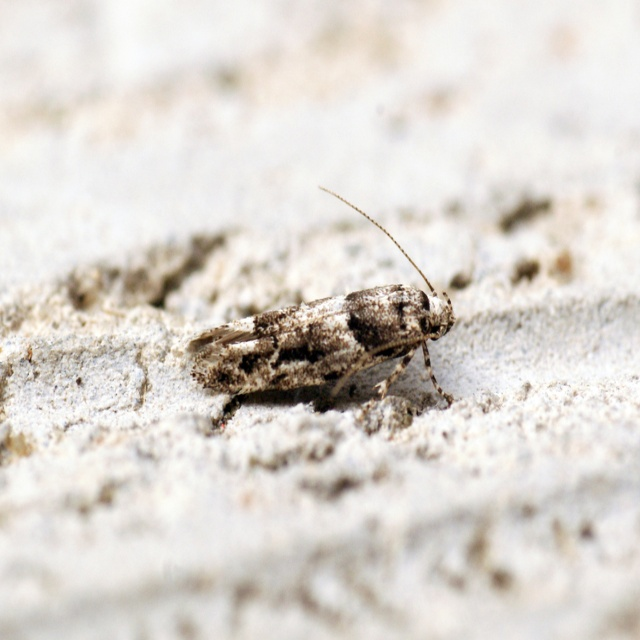Moths and butterflies: (181, 179, 455, 415)
